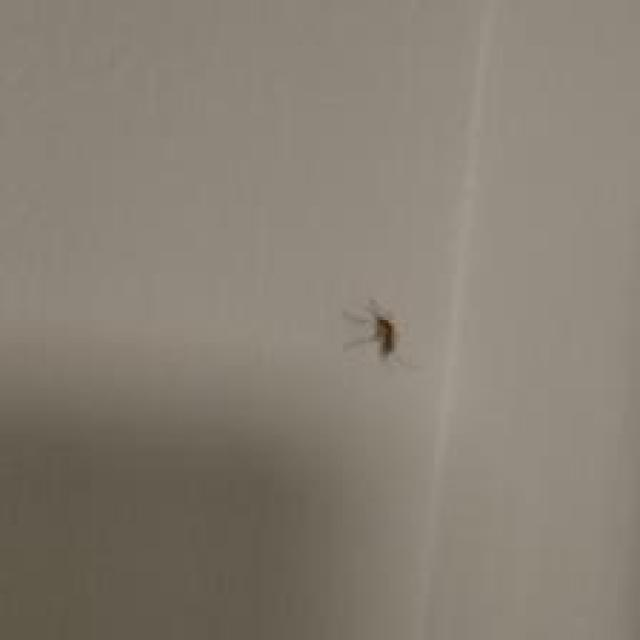Culex: (342, 297, 402, 363)
